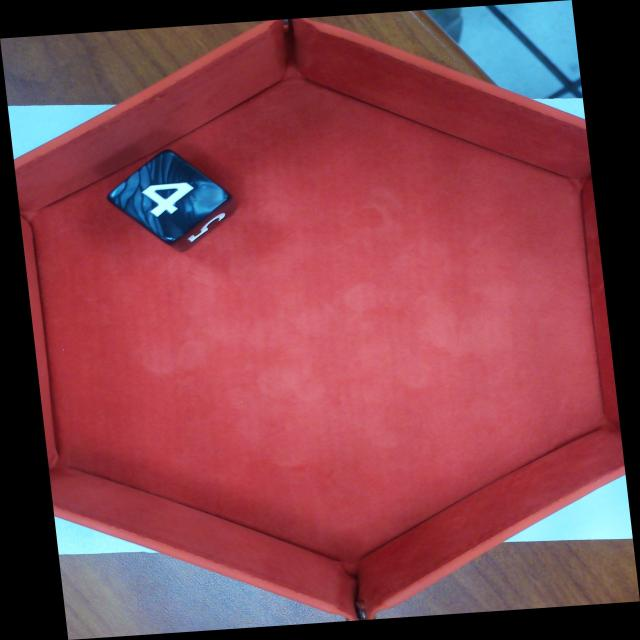dice: (111, 148, 233, 242)
